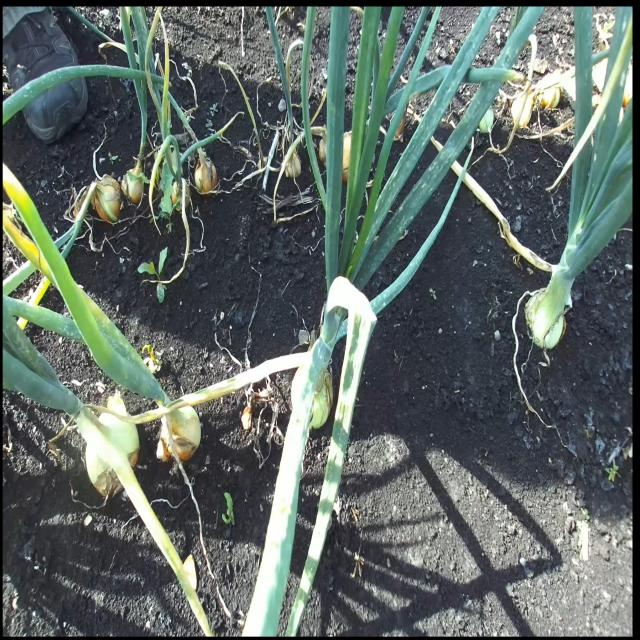onion: (76, 405, 140, 500), (157, 402, 201, 464), (92, 173, 122, 224), (309, 368, 333, 431), (120, 157, 149, 206), (194, 152, 218, 195)
